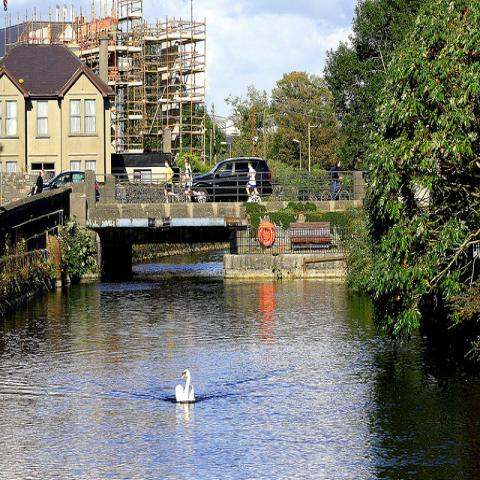car: (192, 156, 274, 202), (28, 171, 100, 205)
truck: (191, 155, 273, 202)
